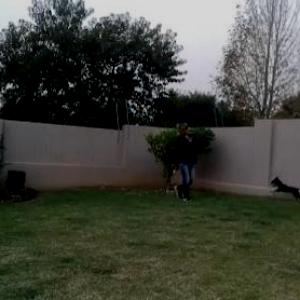follow: (172, 118, 198, 204)
